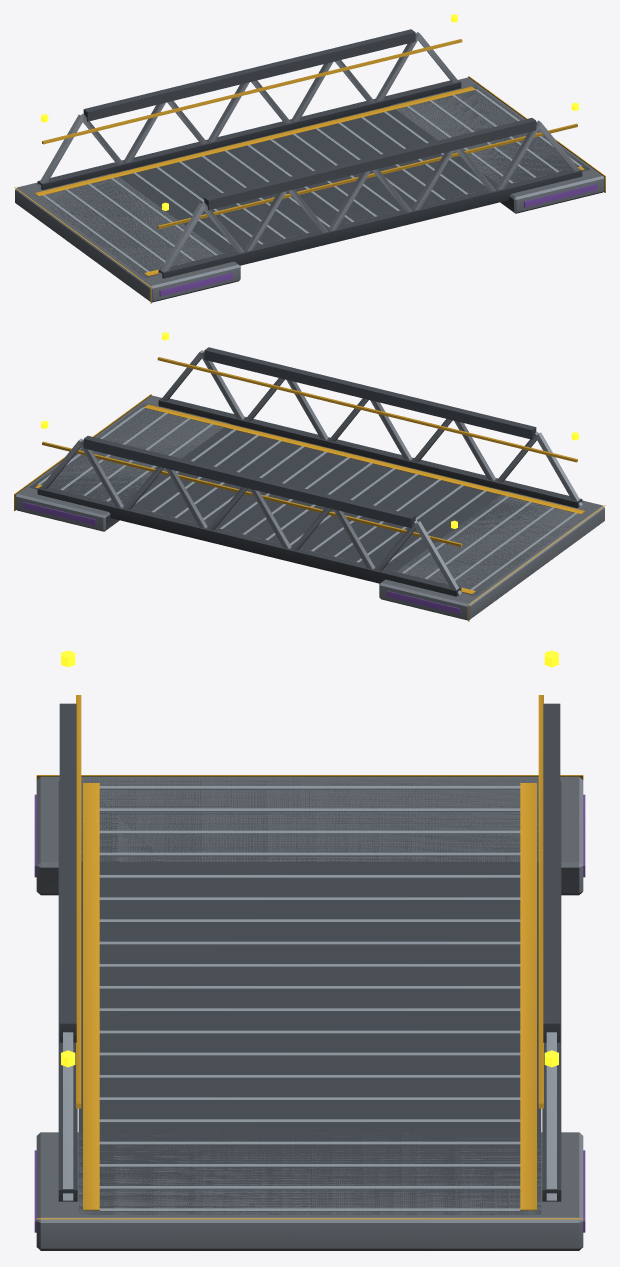
File: crevice_bridge_s.glb
3 views of the same model, one above another, from view 1: azimuth 30°, elevation 25°; view 2: azimuth 150°, elevation 25°; view 3: azimuth 270°, elevation 25° (orthographic). The views are drawn at different scales.
Visible parts, largest first — view 1: Base; view 2: Base; view 3: Base, Lights.
Boxes of the visible parts, x1,y1,x2,y2 form: Base: [14, 29, 605, 303]; Base: [14, 347, 605, 621]; Base: [34, 695, 585, 1250]; Lights: [61, 650, 558, 1067].
Size of the model in its own units: 10 by 1.89 by 5.24.
